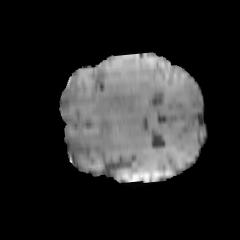glioma: (92, 55, 168, 114)
